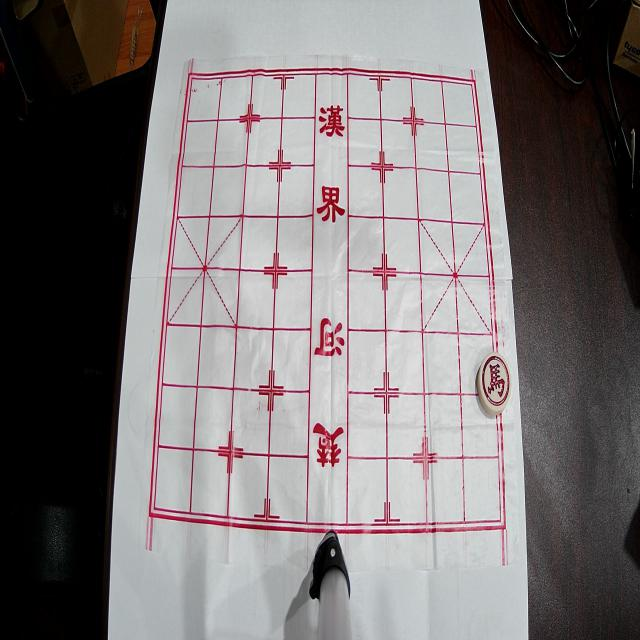red-horse: (477, 352, 512, 415)
